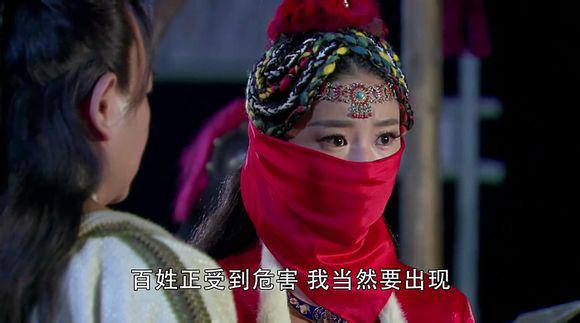OK: (304, 117, 406, 219)
